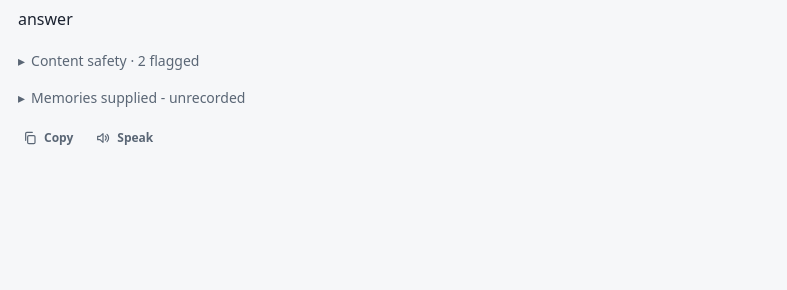
it: MessageList content-safety panel › summarises how many verdicts were flagged
This screenshot has width=787, height=290.
# Detail is collapsed until asked for, so a routine turn stays quiet.
Step 1. Click the heading "Content safety · 2 flagged" → [115, 61], box [31, 51, 199, 70]
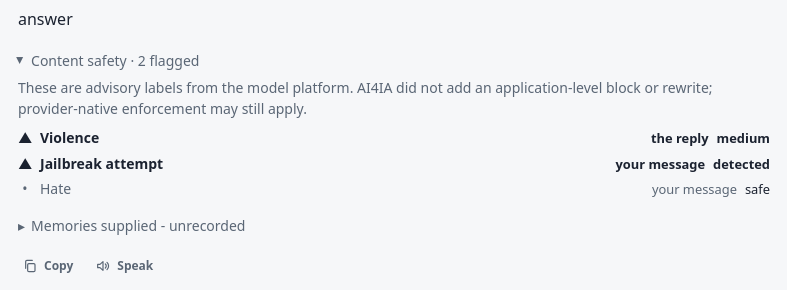
Check: the text "Violence" is shown, box [40, 128, 99, 147]
Check: the text "Jailbreak attempt" is shown, box [40, 154, 163, 173]
Check: the text "medium" is shown, box [717, 129, 770, 149]
